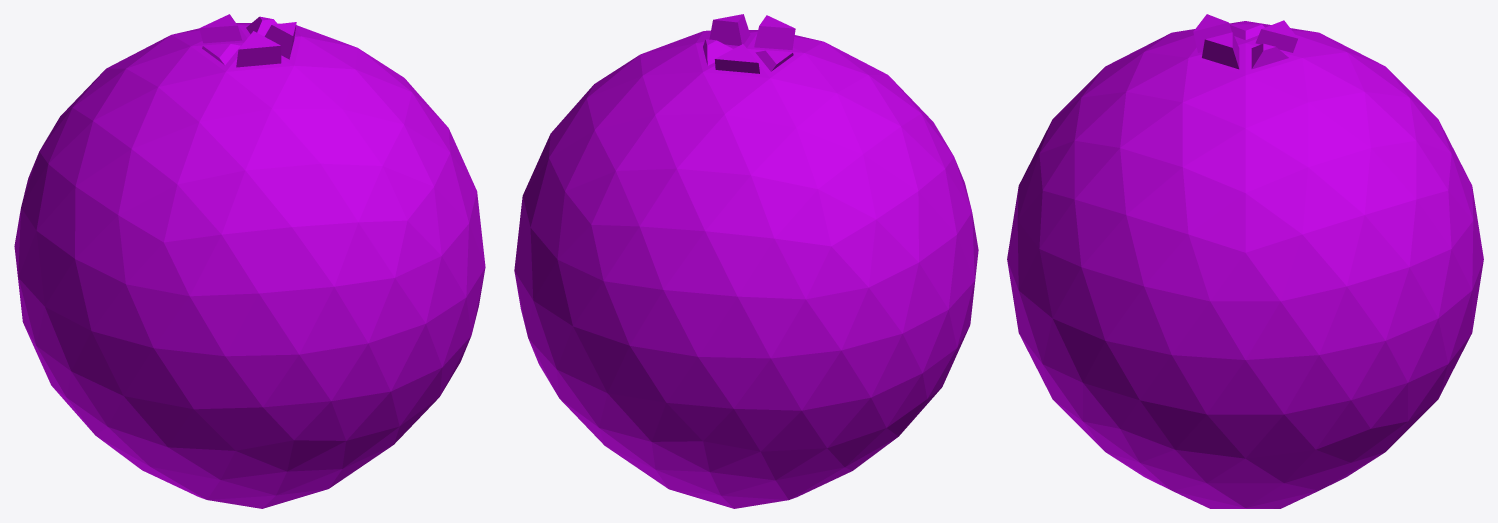
The model's file is Onion.fbx.
3 views of the same model, side by side, from view 1: azimuth 30°, elevation 25°; view 2: azimuth 150°, elevation 25°; view 3: azimuth 270°, elevation 25° (orthographic). The views are drawn at different scales.
Visible parts, largest first — view 1: Onion; view 2: Onion; view 3: Onion.
Boxes of the visible parts, x1=… form: Onion: x1=14, y1=14, x2=485, y2=508; Onion: x1=514, y1=14, x2=978, y2=508; Onion: x1=1007, y1=14, x2=1483, y2=508.
Size of the model in its own units: 200 by 220 by 200.
